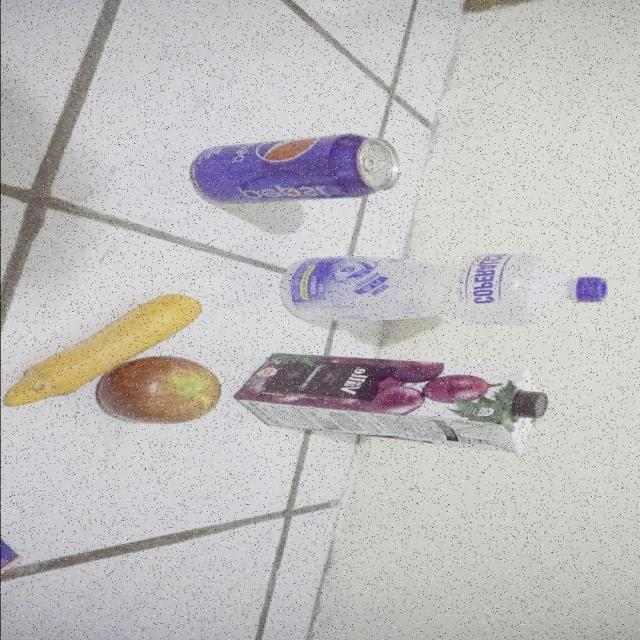AlcoholBottle: (278, 252, 607, 326)
Apple: (92, 354, 222, 424)
Carrot: (1, 294, 202, 408)
Gelatine: (0, 521, 23, 585)
SodaCan: (189, 134, 401, 204)
